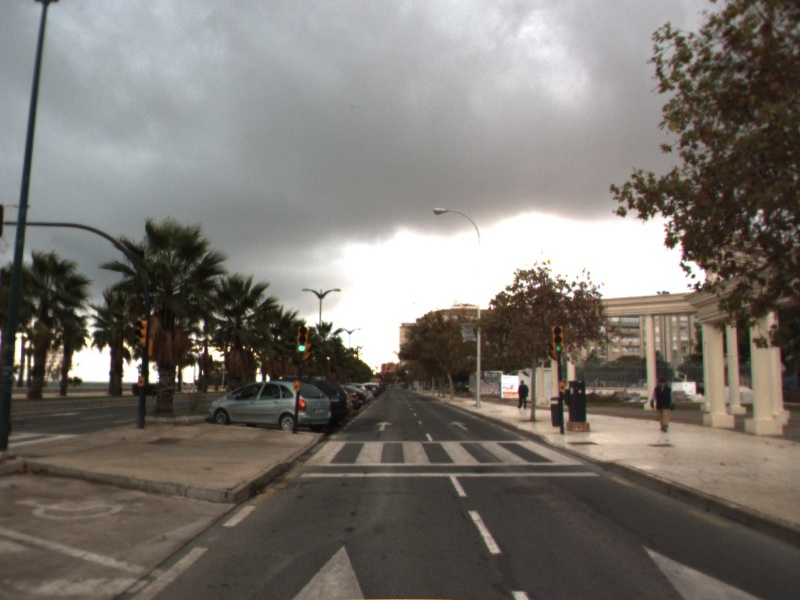STRAIGHT: (447, 419, 472, 432), (375, 419, 395, 433)
